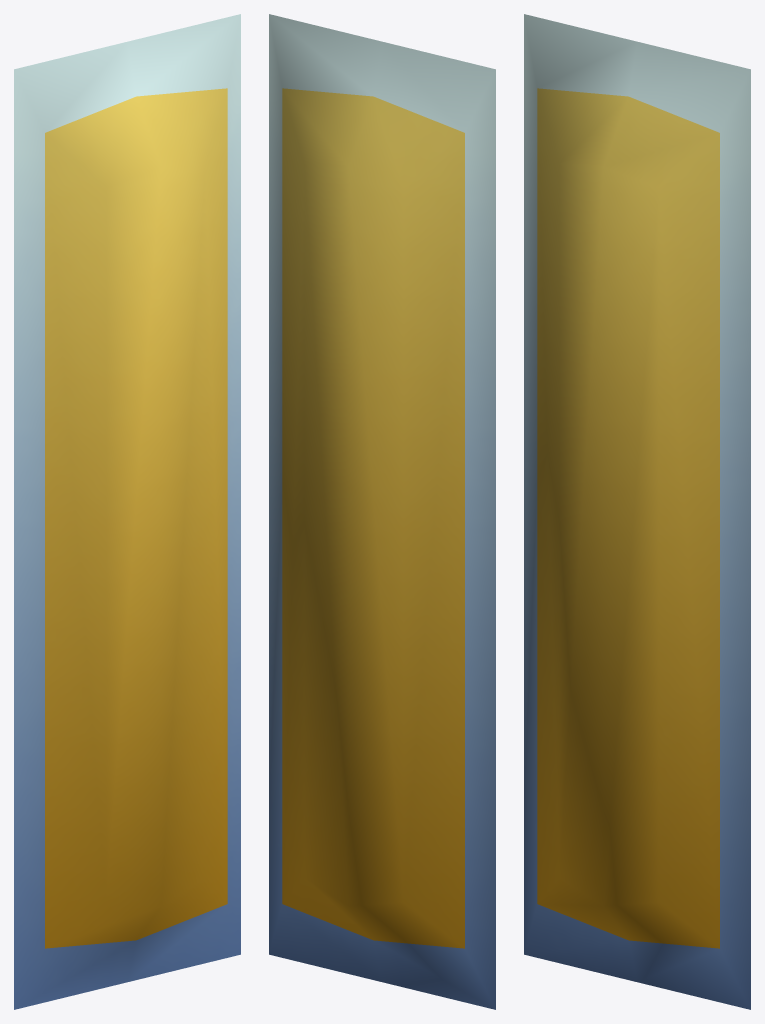
The model's file is m_IcePops03.fbx.
The picture shows the model from 3 angles, left to right: view 1: azimuth 30°, elevation 25°; view 2: azimuth 150°, elevation 25°; view 3: azimuth 330°, elevation 25°; orthographic projection.
Visible parts, largest first — view 1: m_IcePops03; view 2: m_IcePops03; view 3: m_IcePops03.
Part boxes in pixels (x1,y1,x2,y2): m_IcePops03: (14, 14, 240, 1009); m_IcePops03: (269, 14, 495, 1009); m_IcePops03: (524, 14, 750, 1009).
Size of the model in its own units: 5.05 by 20 by 2.6.
